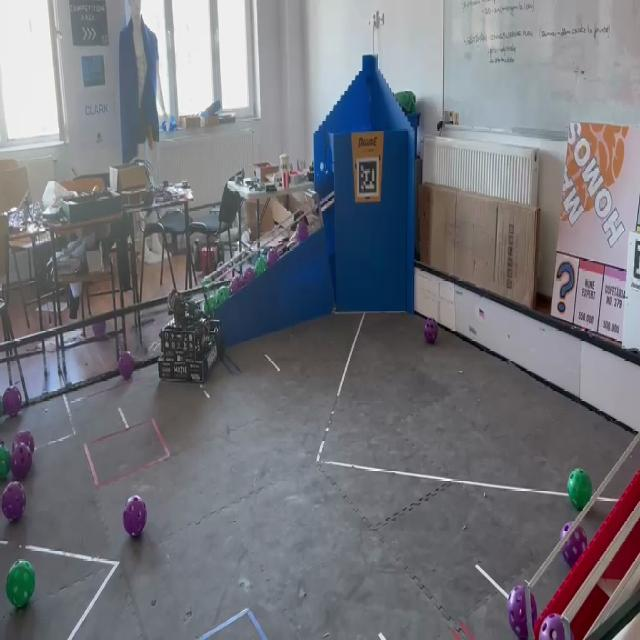artifact_green: (7, 561, 35, 608), (568, 468, 592, 511), (205, 290, 219, 316), (0, 446, 9, 481), (202, 277, 216, 297), (218, 286, 231, 306), (255, 257, 268, 276), (202, 276, 213, 291), (204, 299, 213, 316), (0, 403, 3, 416)
artifact_purple: (507, 585, 527, 639), (562, 526, 588, 567), (2, 482, 26, 522), (123, 496, 146, 537), (10, 444, 32, 481), (539, 614, 568, 639), (3, 387, 22, 416), (12, 431, 34, 453), (119, 352, 134, 380), (424, 318, 438, 344), (230, 276, 243, 294), (297, 221, 308, 242), (267, 248, 279, 267), (92, 322, 106, 338), (244, 267, 255, 285)
